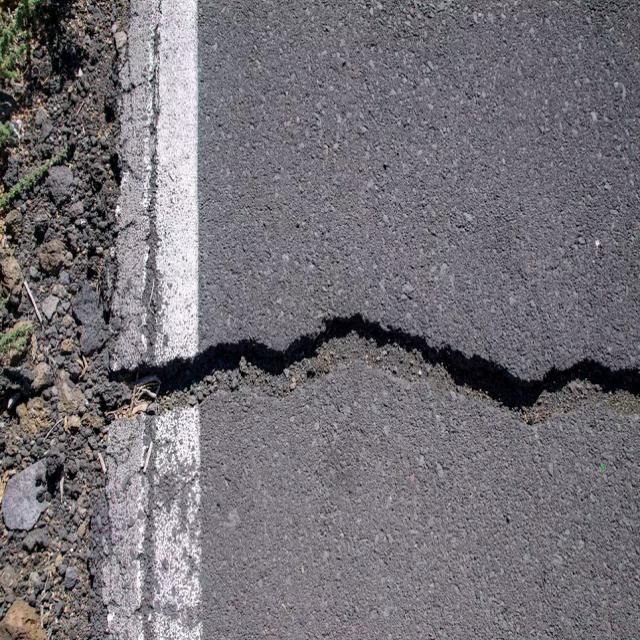Pothole: (29, 12, 351, 640)
